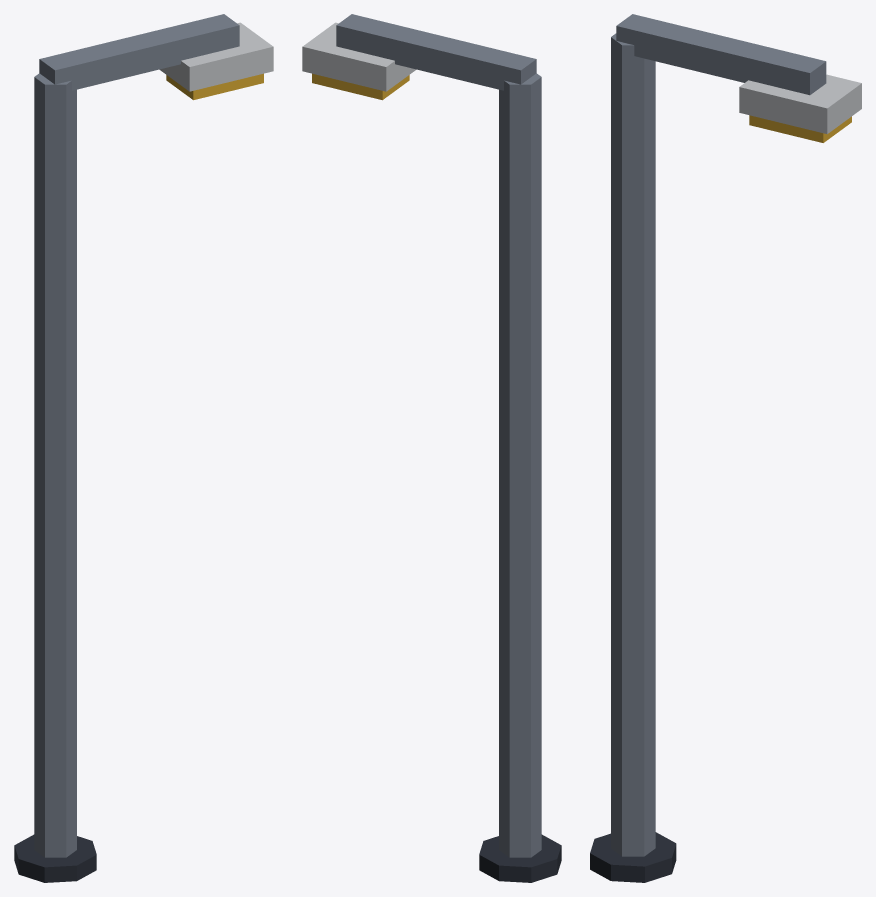
File: lamp.glb
The picture shows the model from 3 angles, left to right: view 1: azimuth 30°, elevation 25°; view 2: azimuth 150°, elevation 25°; view 3: azimuth 330°, elevation 25°; orthographic projection. The views are drawn at different scales.
Visible parts, largest first — view 1: lamp; view 2: lamp; view 3: lamp.
Part boxes in pixels (x1,y1,x2,y2): lamp: (14, 14, 273, 882); lamp: (302, 14, 561, 882); lamp: (590, 14, 861, 882).
Bounding box in the file's own units: 1.92 × 6.17 × 0.594.
